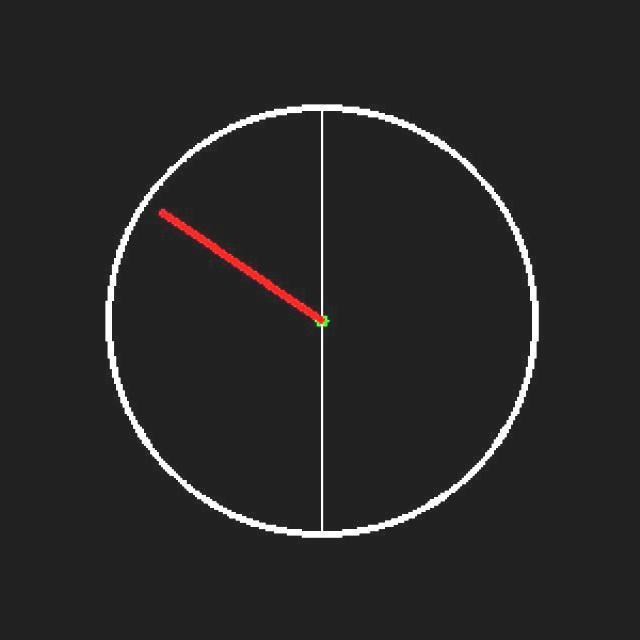Needle_Tip: (140, 183, 197, 251)
Needle_base: (294, 289, 365, 382)
